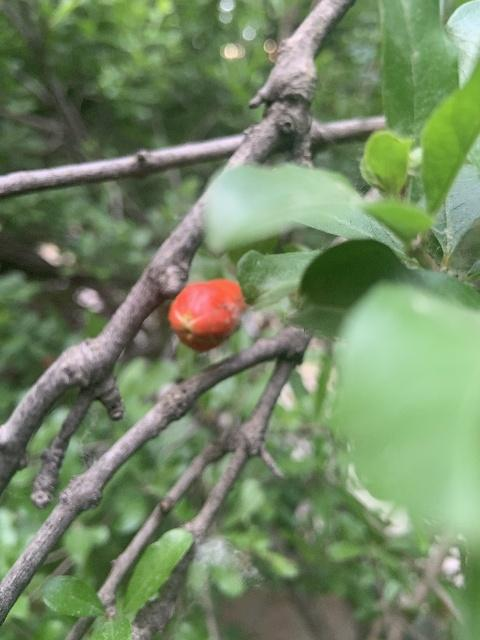bud: (167, 278, 244, 352)
